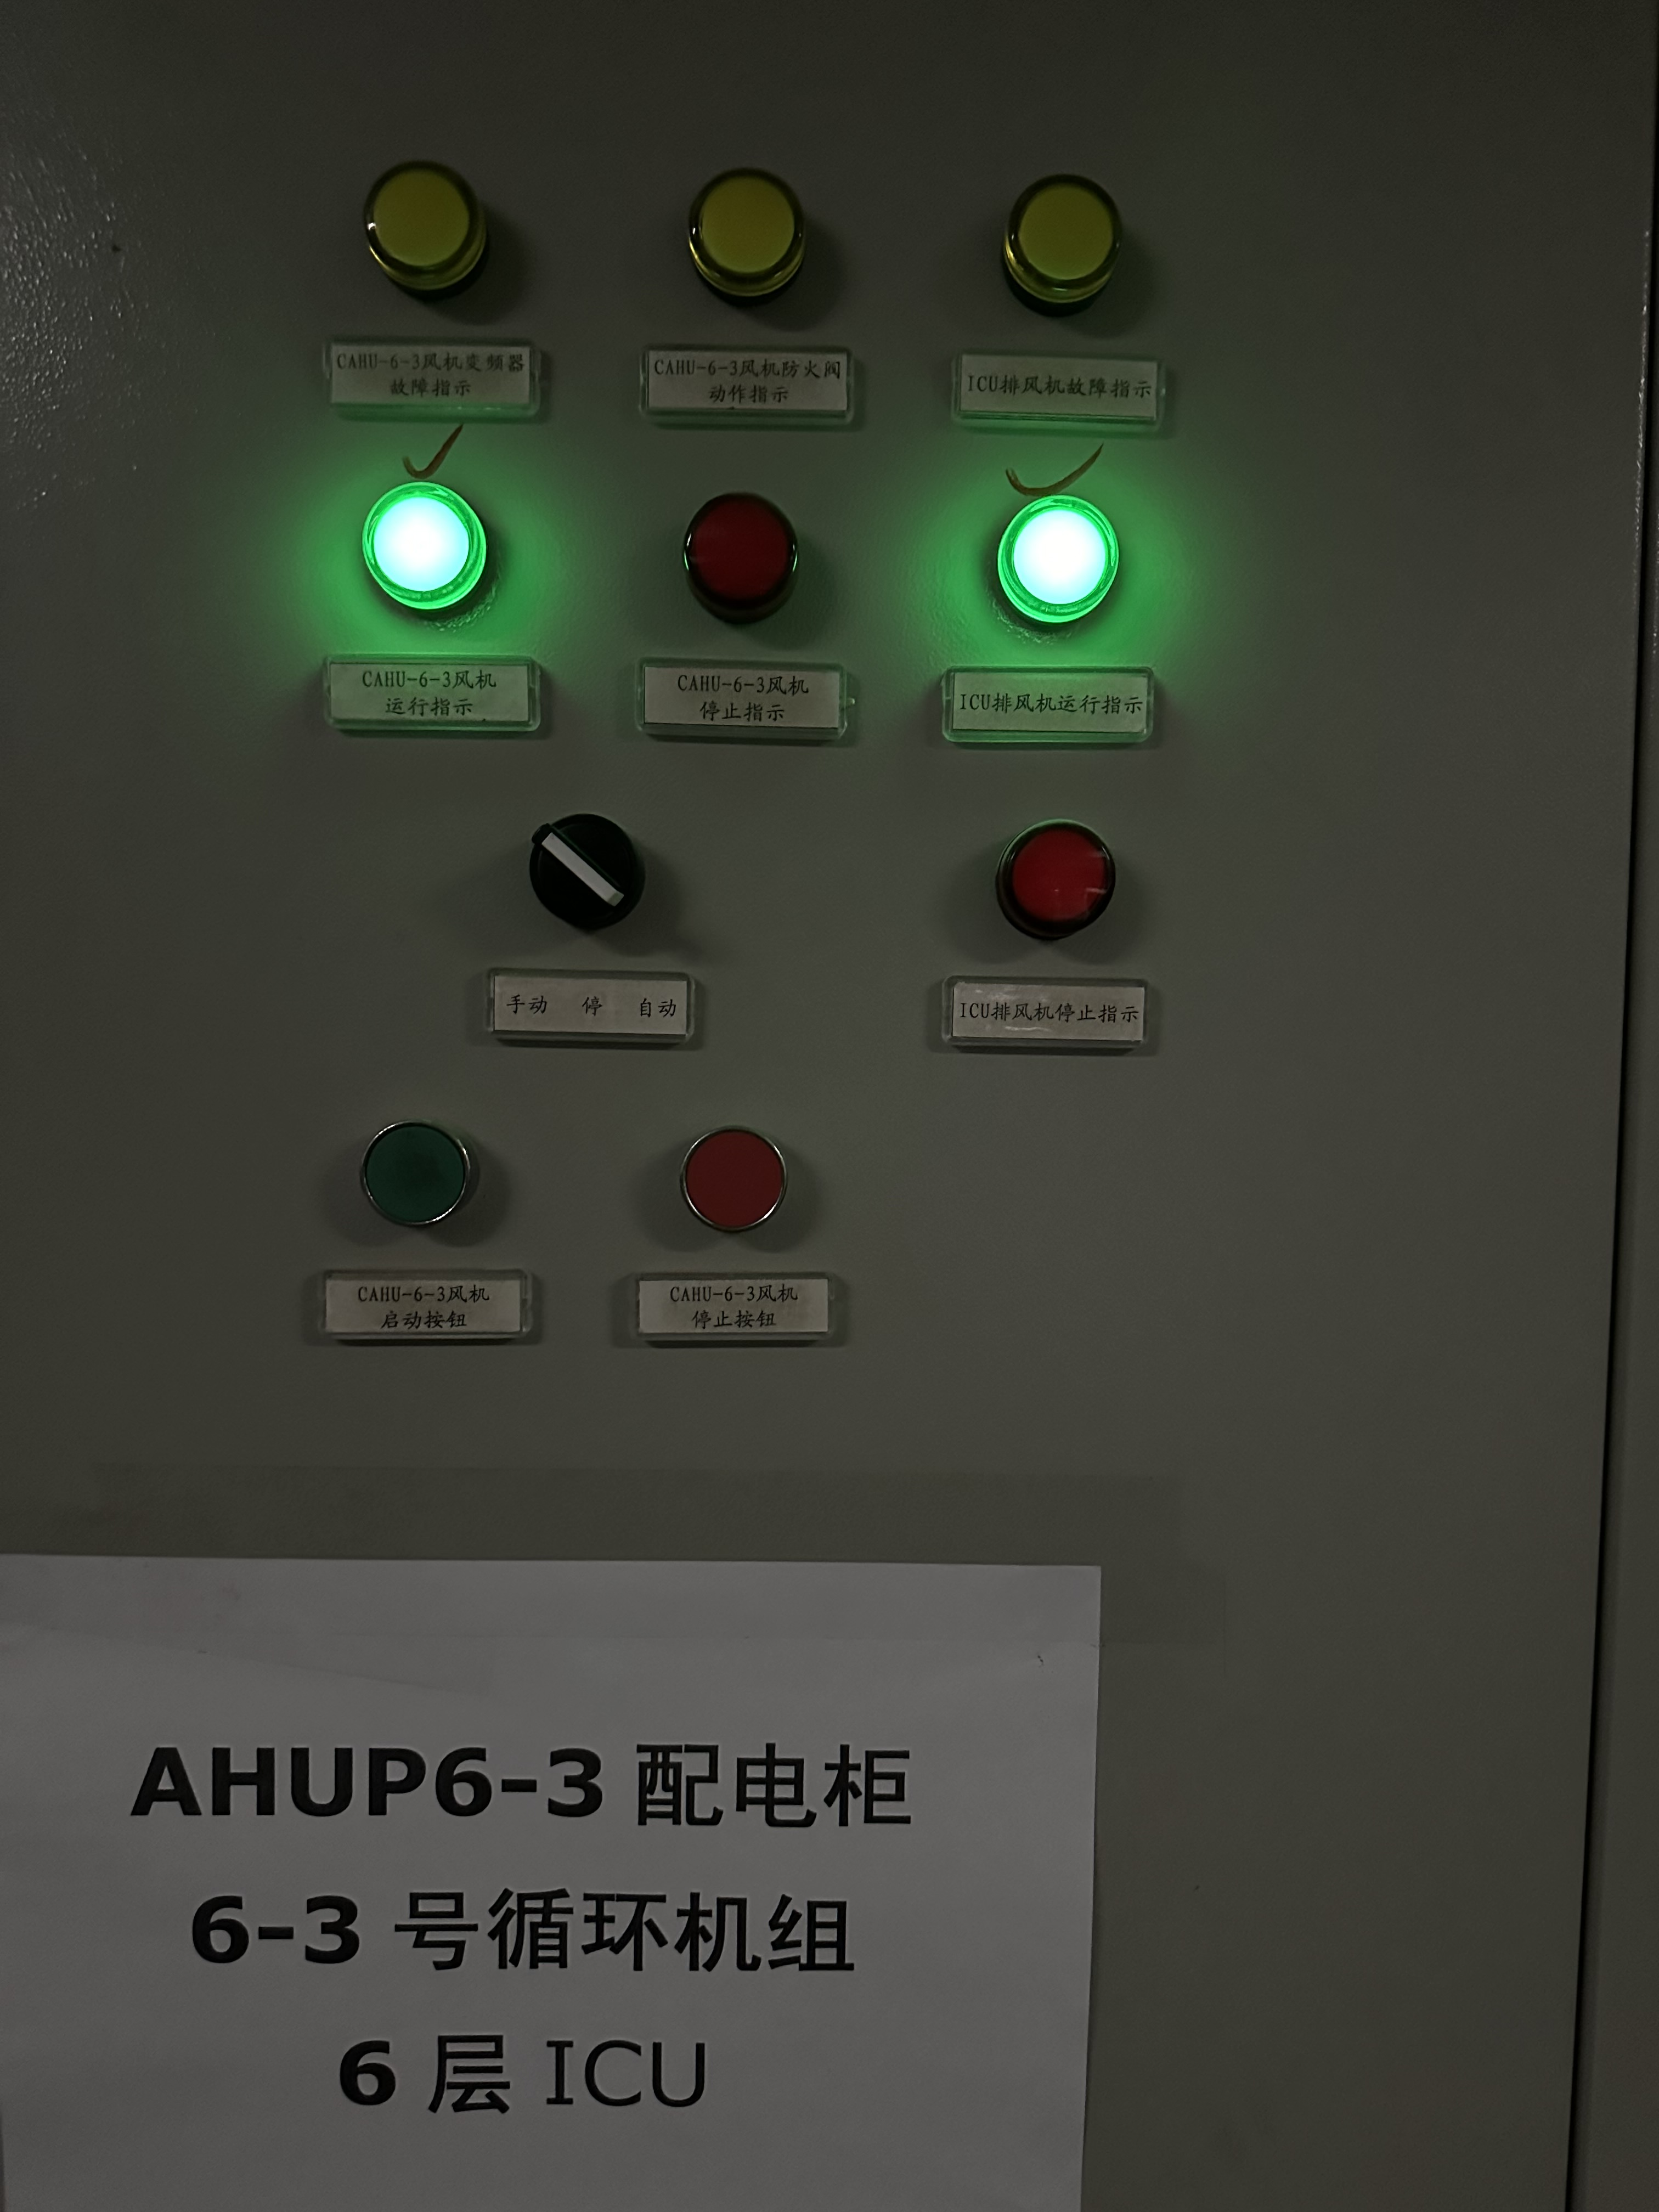3-1: (321, 127, 537, 324)
3-2: (626, 124, 854, 334)
3-3: (960, 132, 1164, 343)
3-4: (314, 455, 538, 646)
3-5: (645, 451, 847, 653)
3-6: (953, 453, 1171, 662)
3-7: (486, 768, 708, 965)
